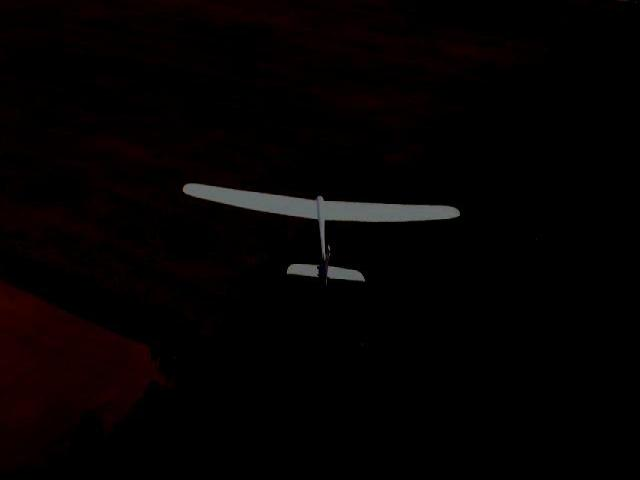iha: (177, 175, 465, 290)
